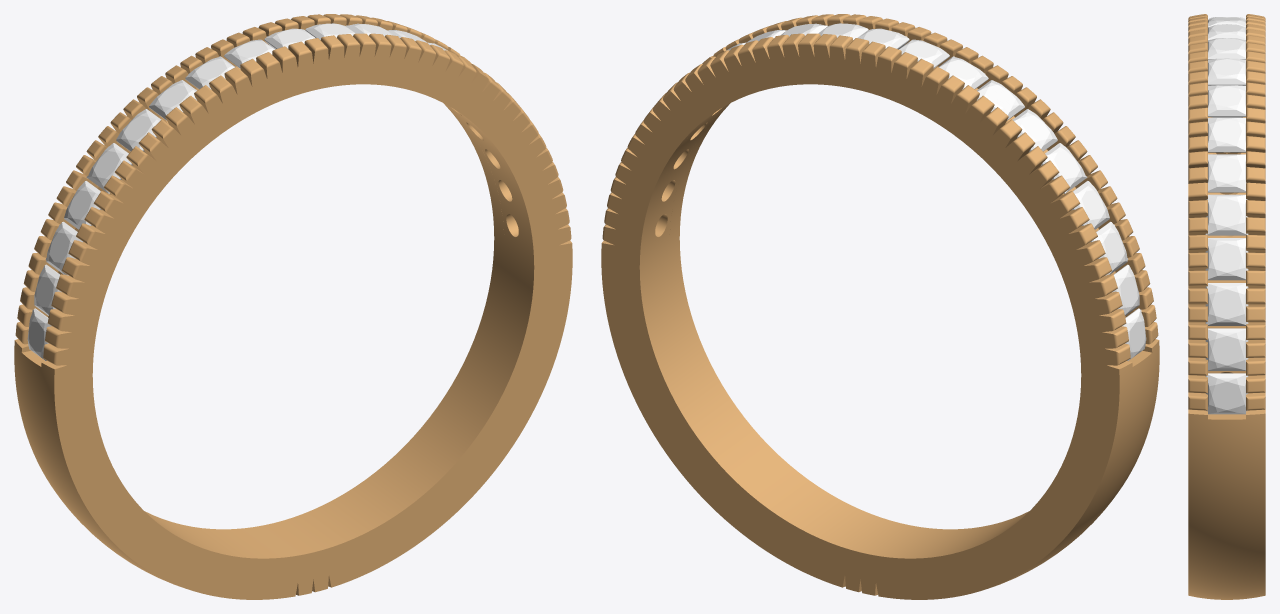
Rendered from linear-luxe-band.glb.
3 views of the same model, side by side, from view 1: azimuth 30°, elevation 25°; view 2: azimuth 150°, elevation 25°; view 3: azimuth 270°, elevation 25° (orthographic). The views are drawn at different scales.
Parts seen in each view (by area): view 1: /R28.3dm, round_diamond_15, round_diamond_16, round_diamond_14, round_diamond_17, round_diamond_13, round_diamond_18, round_diamond_12, round_diamond_19, round_diamond_11; view 2: /R28.3dm, round_diamond_15, round_diamond_16, round_diamond_14, round_diamond_17, round_diamond_13, round_diamond_18, round_diamond_12, round_diamond_19, round_diamond_11; view 3: /R28.3dm, round_diamond_3, round_diamond_4, round_diamond_2, round_diamond_1, round_diamond_5, round_diamond_6, round_diamond_7, round_diamond_8, round_diamond_9, round_diamond_10, round_diamond_11 (+1 smaller).
Part boxes in pixels (x1=…): /R28.3dm: x1=14, y1=14, x2=572, y2=599; round_diamond_15: x1=86, y1=143, x2=132, y2=193; round_diamond_16: x1=64, y1=181, x2=101, y2=229; round_diamond_14: x1=116, y1=109, x2=161, y2=151; round_diamond_17: x1=45, y1=221, x2=83, y2=275; round_diamond_13: x1=149, y1=80, x2=196, y2=120; round_diamond_18: x1=34, y1=264, x2=61, y2=315; round_diamond_12: x1=185, y1=56, x2=235, y2=89; round_diamond_19: x1=27, y1=308, x2=51, y2=360; round_diamond_11: x1=224, y1=39, x2=274, y2=68; /R28.3dm: x1=601, y1=14, x2=1159, y2=599; round_diamond_15: x1=1041, y1=143, x2=1087, y2=193; round_diamond_16: x1=1072, y1=181, x2=1109, y2=229; round_diamond_14: x1=1012, y1=109, x2=1057, y2=151; round_diamond_17: x1=1090, y1=221, x2=1128, y2=275; round_diamond_13: x1=977, y1=80, x2=1024, y2=120; round_diamond_18: x1=1112, y1=264, x2=1139, y2=315; round_diamond_12: x1=938, y1=56, x2=988, y2=89; round_diamond_19: x1=1122, y1=308, x2=1146, y2=360; round_diamond_11: x1=899, y1=39, x2=949, y2=68; /R28.3dm: x1=1188, y1=14, x2=1265, y2=599; round_diamond_3: x1=1205, y1=283, x2=1248, y2=325; round_diamond_4: x1=1205, y1=238, x2=1248, y2=280; round_diamond_2: x1=1205, y1=328, x2=1248, y2=370; round_diamond_1: x1=1205, y1=373, x2=1248, y2=414; round_diamond_5: x1=1205, y1=194, x2=1248, y2=235; round_diamond_6: x1=1207, y1=154, x2=1246, y2=192; round_diamond_7: x1=1208, y1=118, x2=1245, y2=152; round_diamond_8: x1=1208, y1=85, x2=1245, y2=117; round_diamond_9: x1=1208, y1=58, x2=1245, y2=85; round_diamond_10: x1=1208, y1=38, x2=1245, y2=59; round_diamond_11: x1=1208, y1=24, x2=1245, y2=40.
Bounding box in the file's own units: 2.82 × 2.81 × 0.3714.
